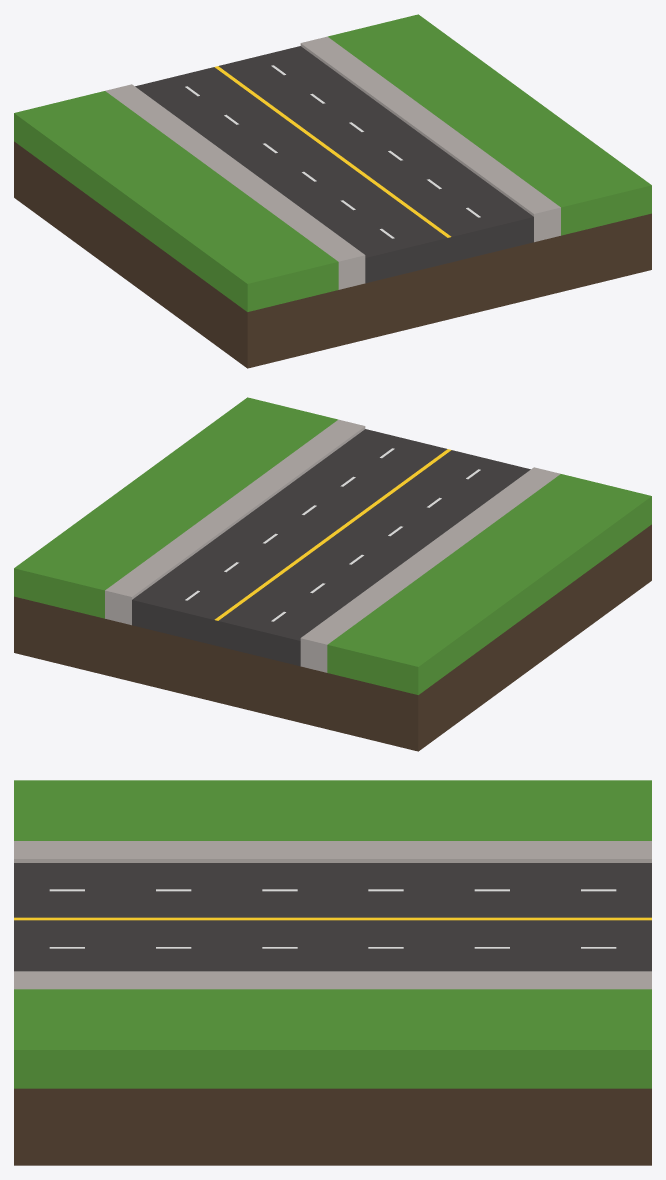
The model's file is tile-mainroad-straight.glb.
The picture shows the model from 3 angles, top to bottom: view 1: azimuth 30°, elevation 25°; view 2: azimuth 150°, elevation 25°; view 3: azimuth 270°, elevation 25°; orthographic projection. The views are drawn at different scales.
Visible parts, largest first — view 1: tile-mainroad-straight; view 2: tile-mainroad-straight; view 3: tile-mainroad-straight.
Part boxes in pixels (x1,y1,x2,y2): tile-mainroad-straight: [14, 14, 651, 368]; tile-mainroad-straight: [14, 397, 651, 751]; tile-mainroad-straight: [14, 780, 651, 1165].
Bounding box in the file's own units: 30 × 6 × 30.
1 material, 1 textured.
